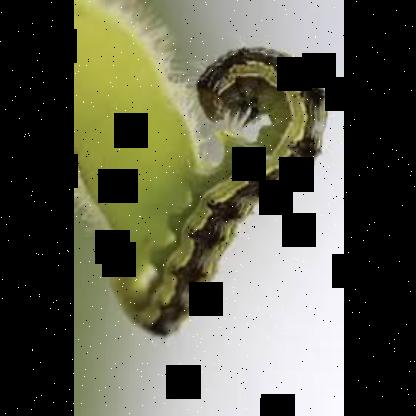oruga: (134, 46, 330, 334)
